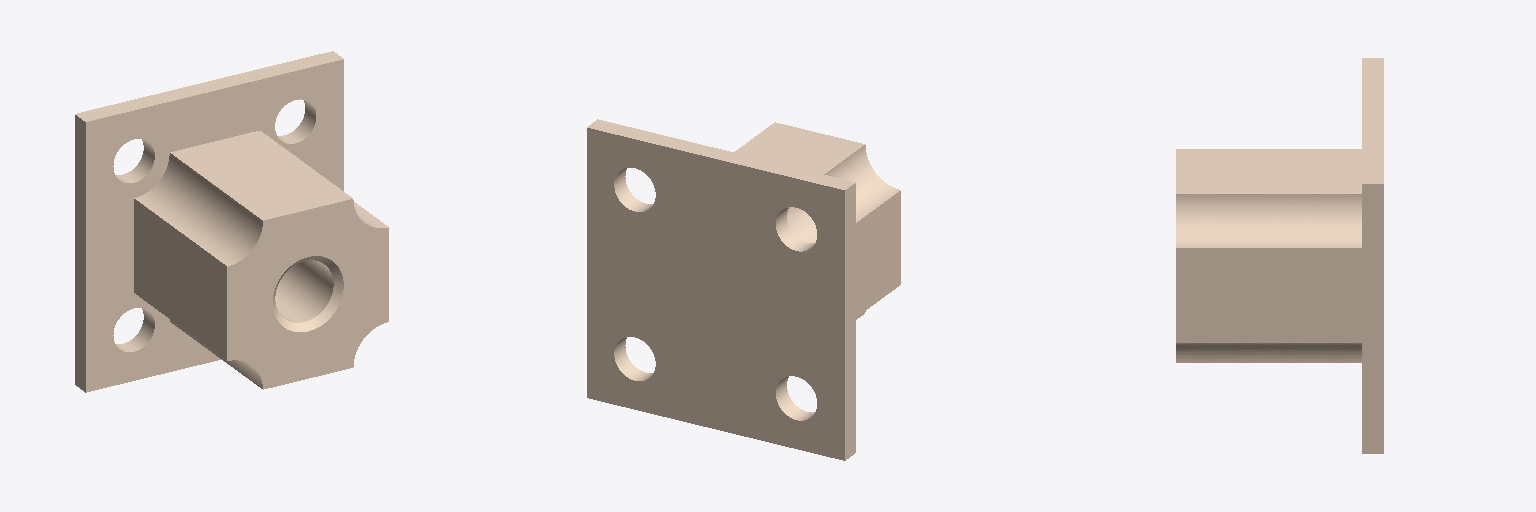
The model's file is industreal_tray_insert_round_peg_8mm.obj.
The picture shows the model from 3 angles: view 1: azimuth 30°, elevation 25°; view 2: azimuth 150°, elevation 25°; view 3: azimuth 270°, elevation 25°; orthographic projection.
Parts seen in each view (by area): view 1: industreal_tray_insert_round_peg_8mm; view 2: industreal_tray_insert_round_peg_8mm; view 3: industreal_tray_insert_round_peg_8mm.
Boxes of the visible parts, box(x1,y1,x2,y2) form: industreal_tray_insert_round_peg_8mm: box(75, 51, 388, 392); industreal_tray_insert_round_peg_8mm: box(587, 119, 900, 460); industreal_tray_insert_round_peg_8mm: box(1176, 58, 1383, 453).
Size of the model in its own units: 0.04 by 0.04 by 0.028.